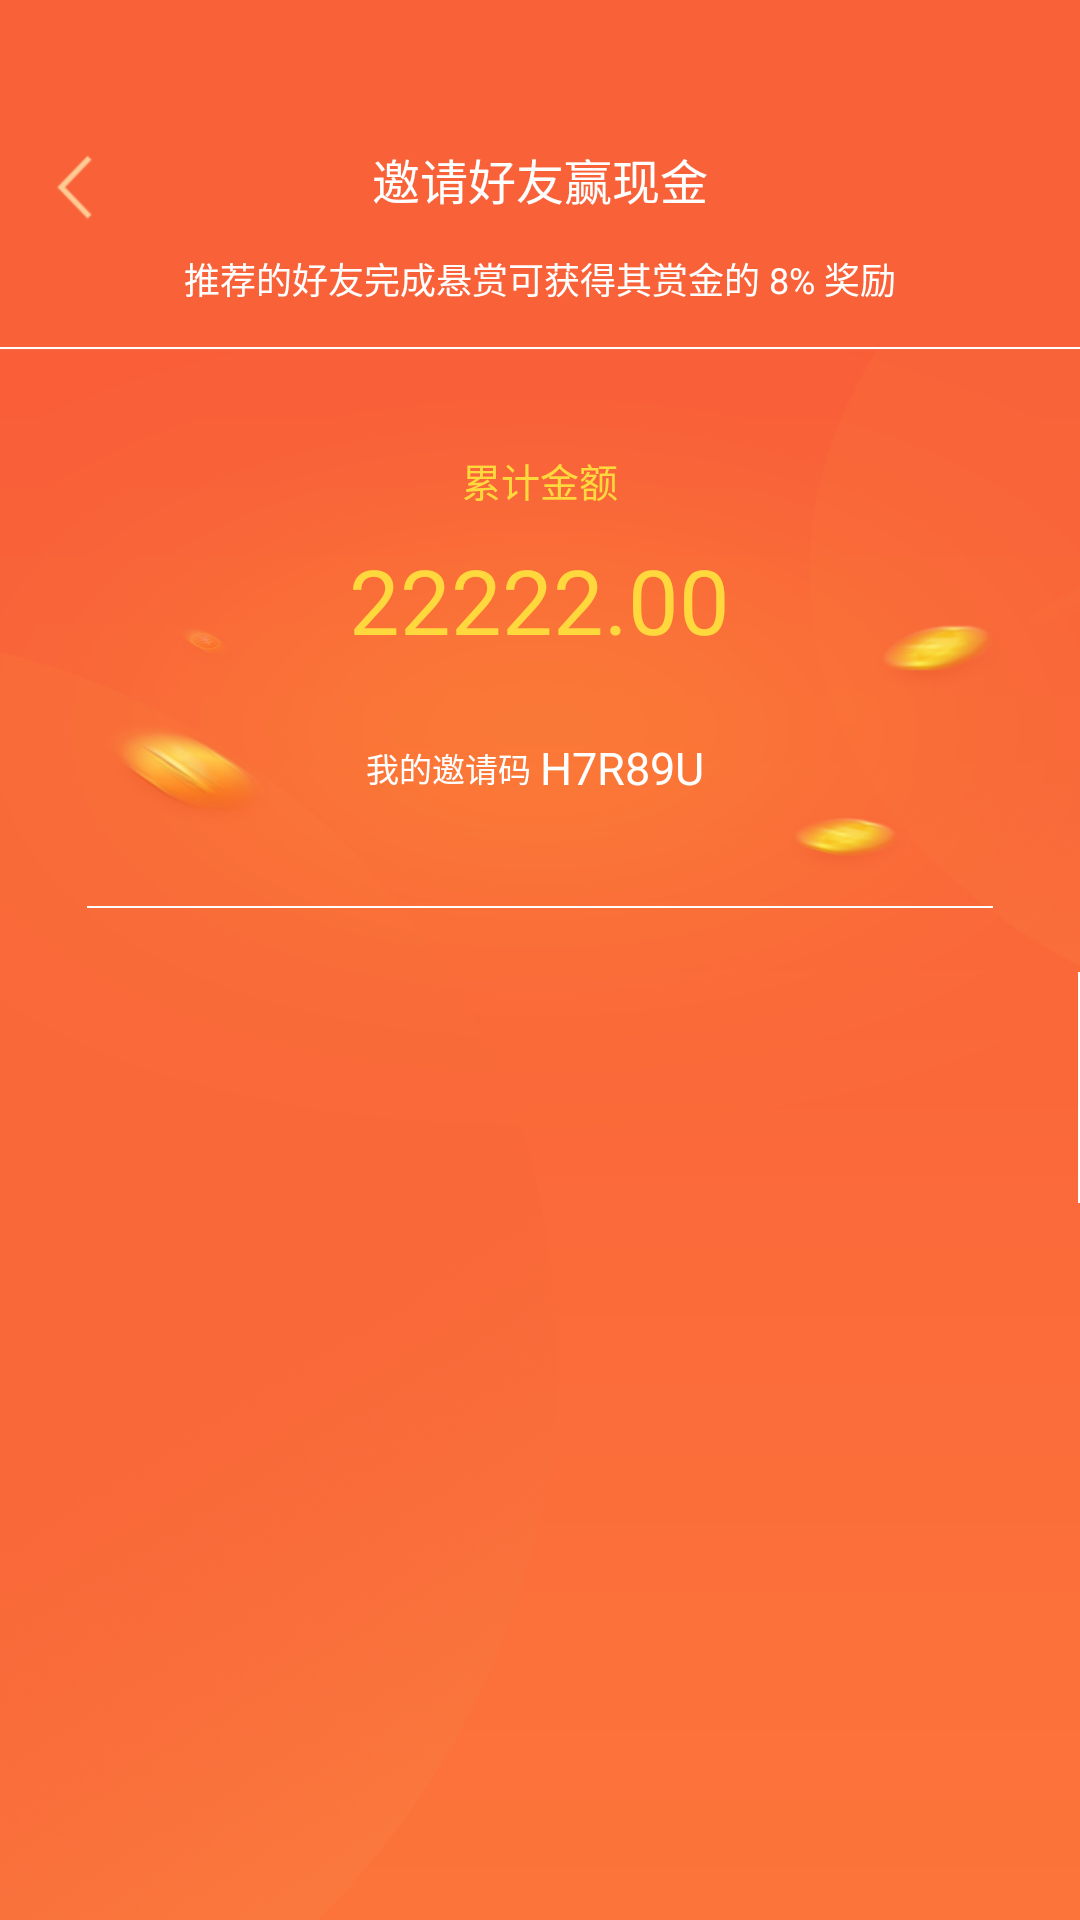

Named icons in this screenshot (1080×1920) and their bounding boxes, (x1, y1, x2, y2):
left back: (57, 156, 92, 219)
